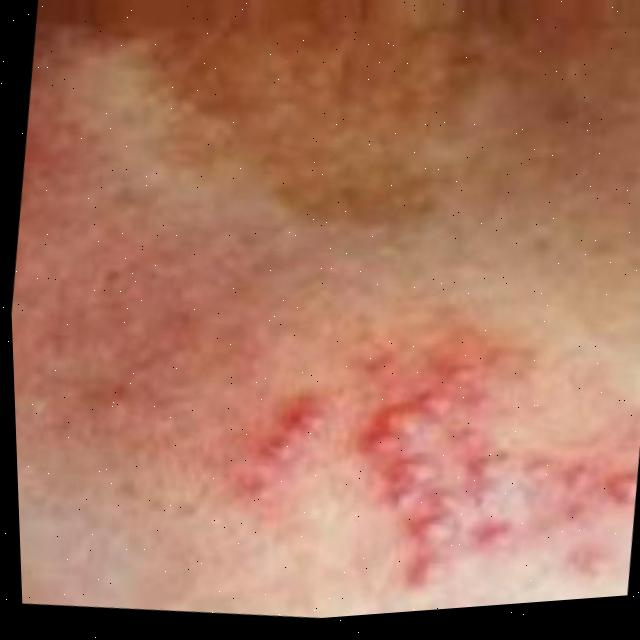Shingles: (248, 333, 640, 623)
